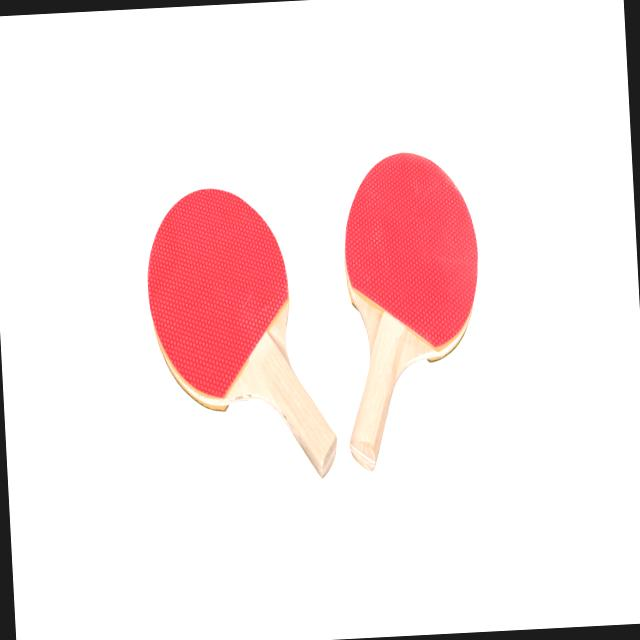TT Racket: (53, 135, 387, 487), (317, 118, 512, 421)
